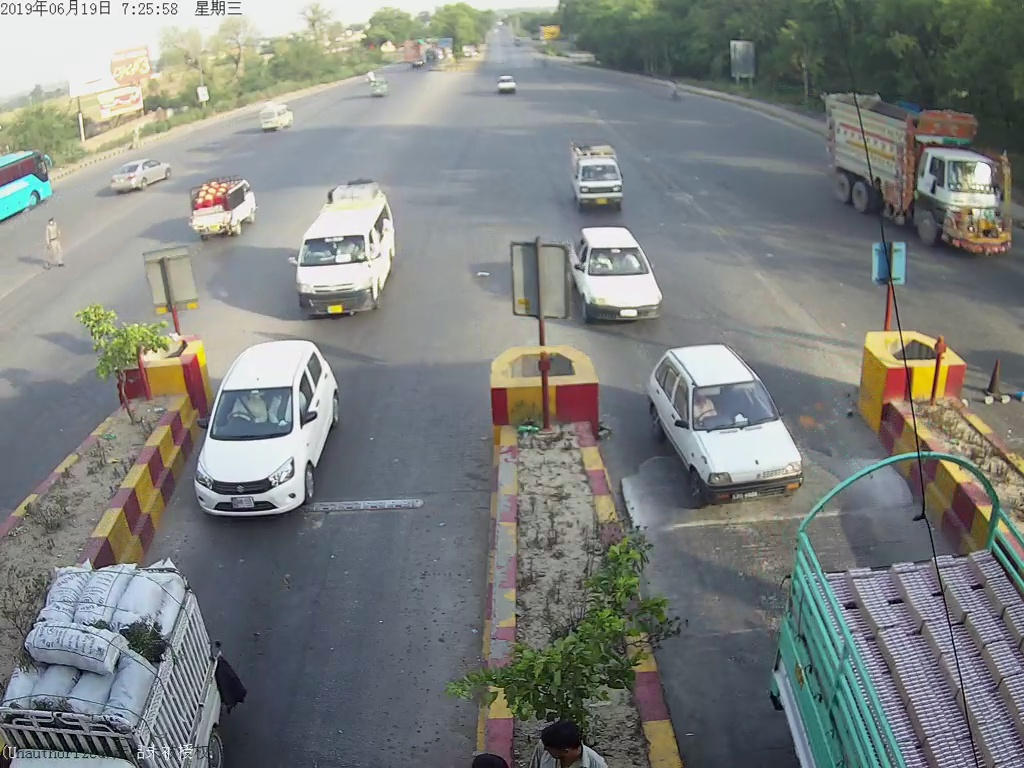Cat-1: (198, 333, 334, 524), (652, 343, 807, 502), (569, 224, 662, 331), (569, 150, 629, 219)
Cat-2: (290, 178, 405, 317)
